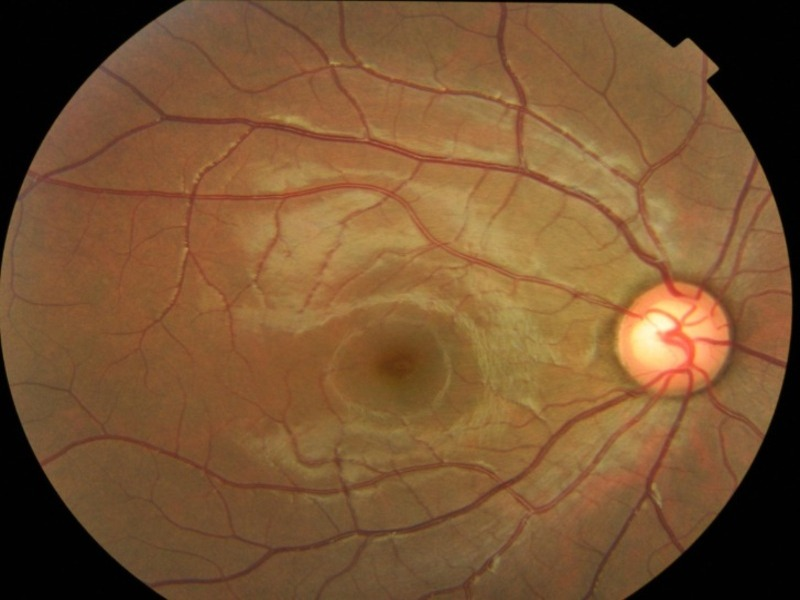Optic Cup: (631, 301, 689, 366)
Optic Disc: (618, 281, 732, 394)
